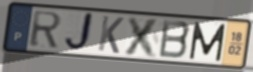B: (157, 18, 192, 60)
J: (62, 11, 96, 54)
K: (96, 14, 126, 56)
M: (187, 21, 227, 63)
R: (28, 10, 64, 49)
X: (122, 15, 163, 59)
